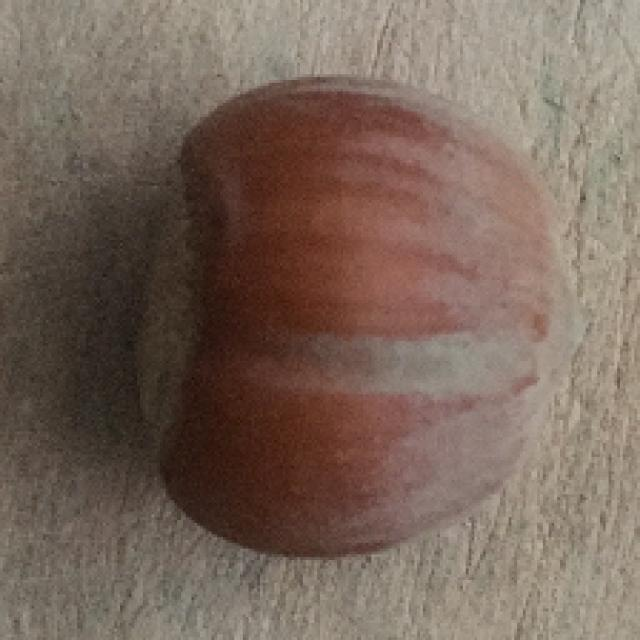QualityHazelnut: (131, 74, 583, 559)
